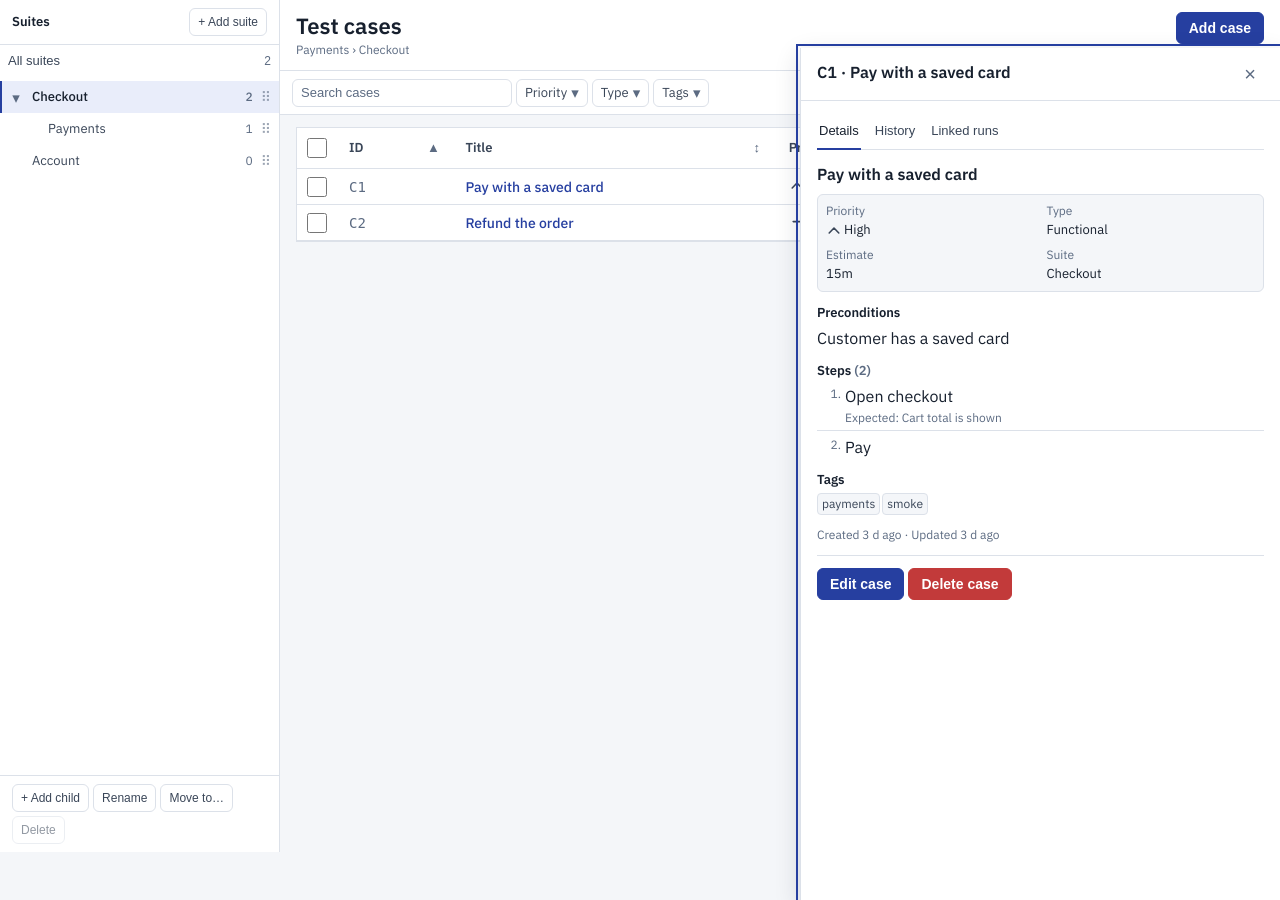
cases screen › Add case clears the open case drawer (only one drawer at a time)
Expected: the dialog "C1" is shown, [800, 48, 1279, 899]
Click the button "Add case".
click(1220, 28)  # box [1176, 12, 1264, 44]
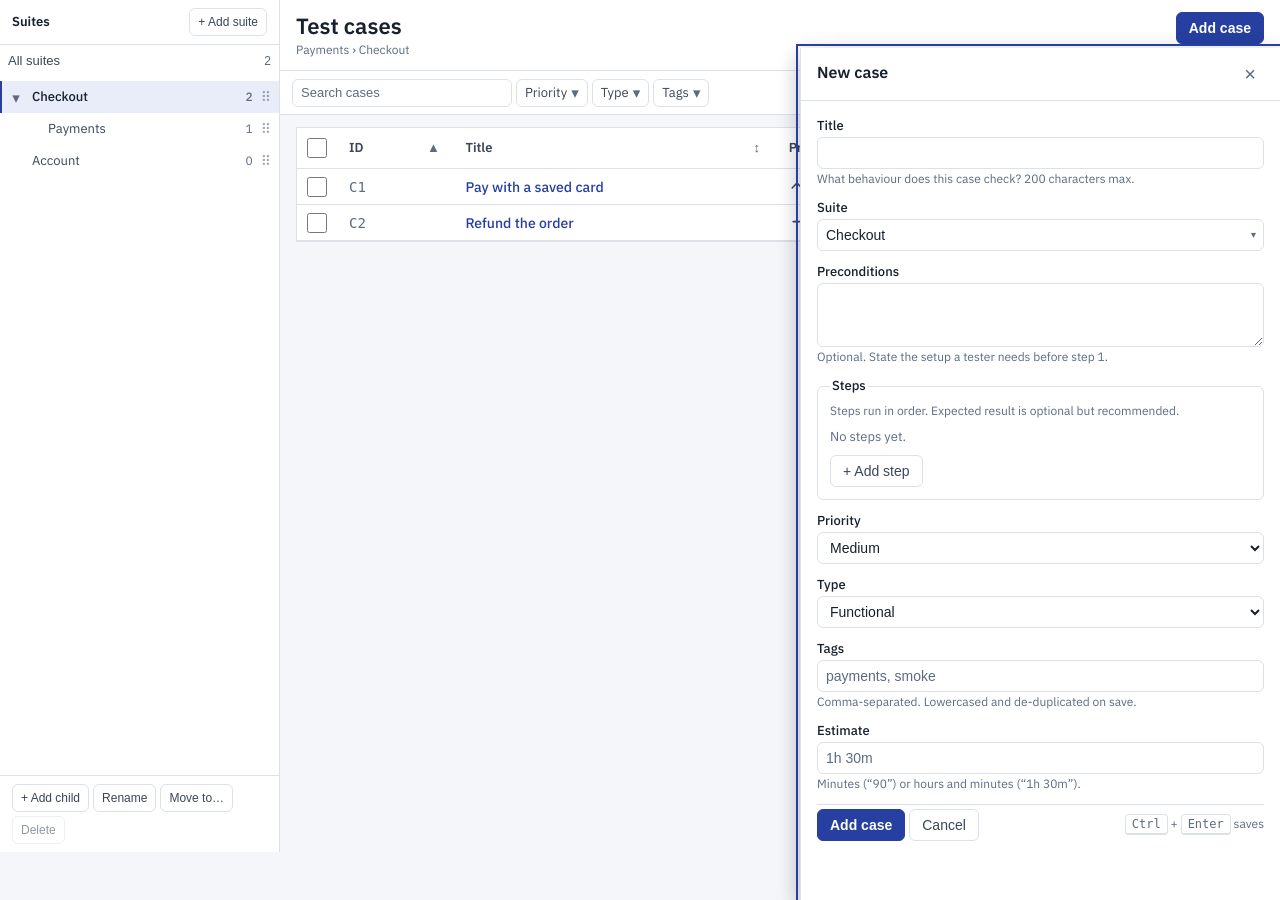
Expected: the dialog "New case" is shown, [800, 48, 1279, 899]
